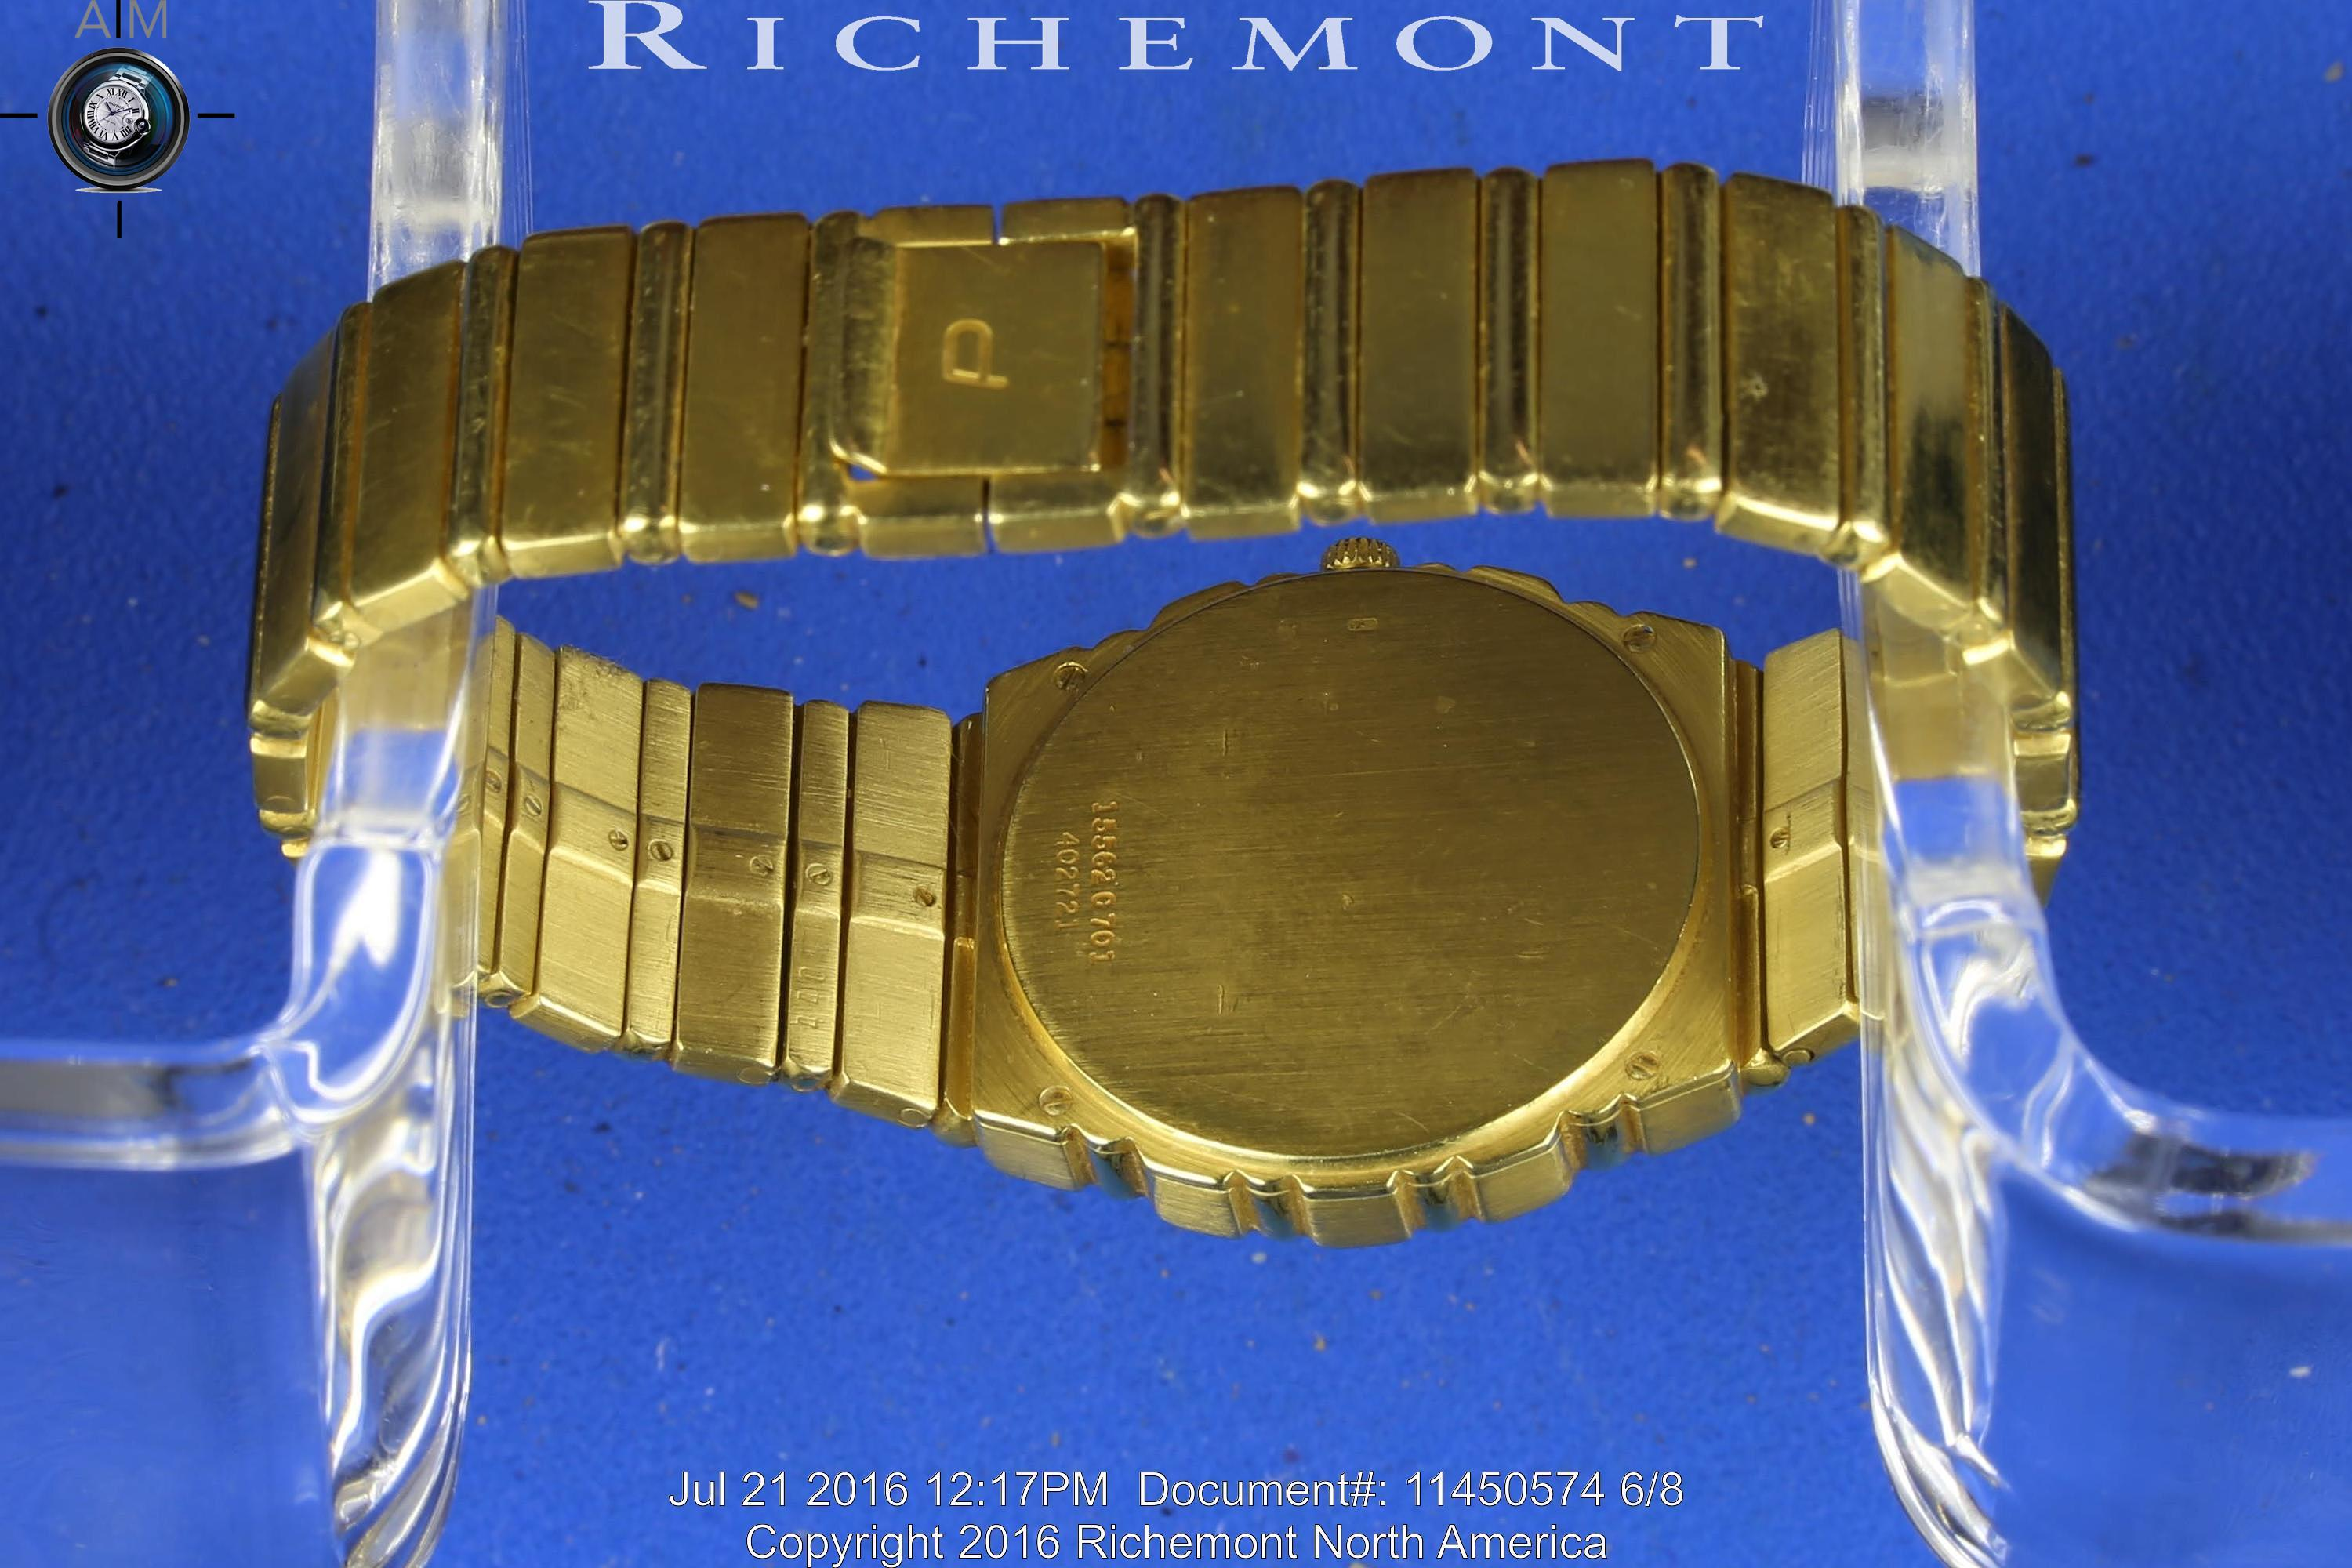Watch BackCase: (949, 577, 1741, 1258)
